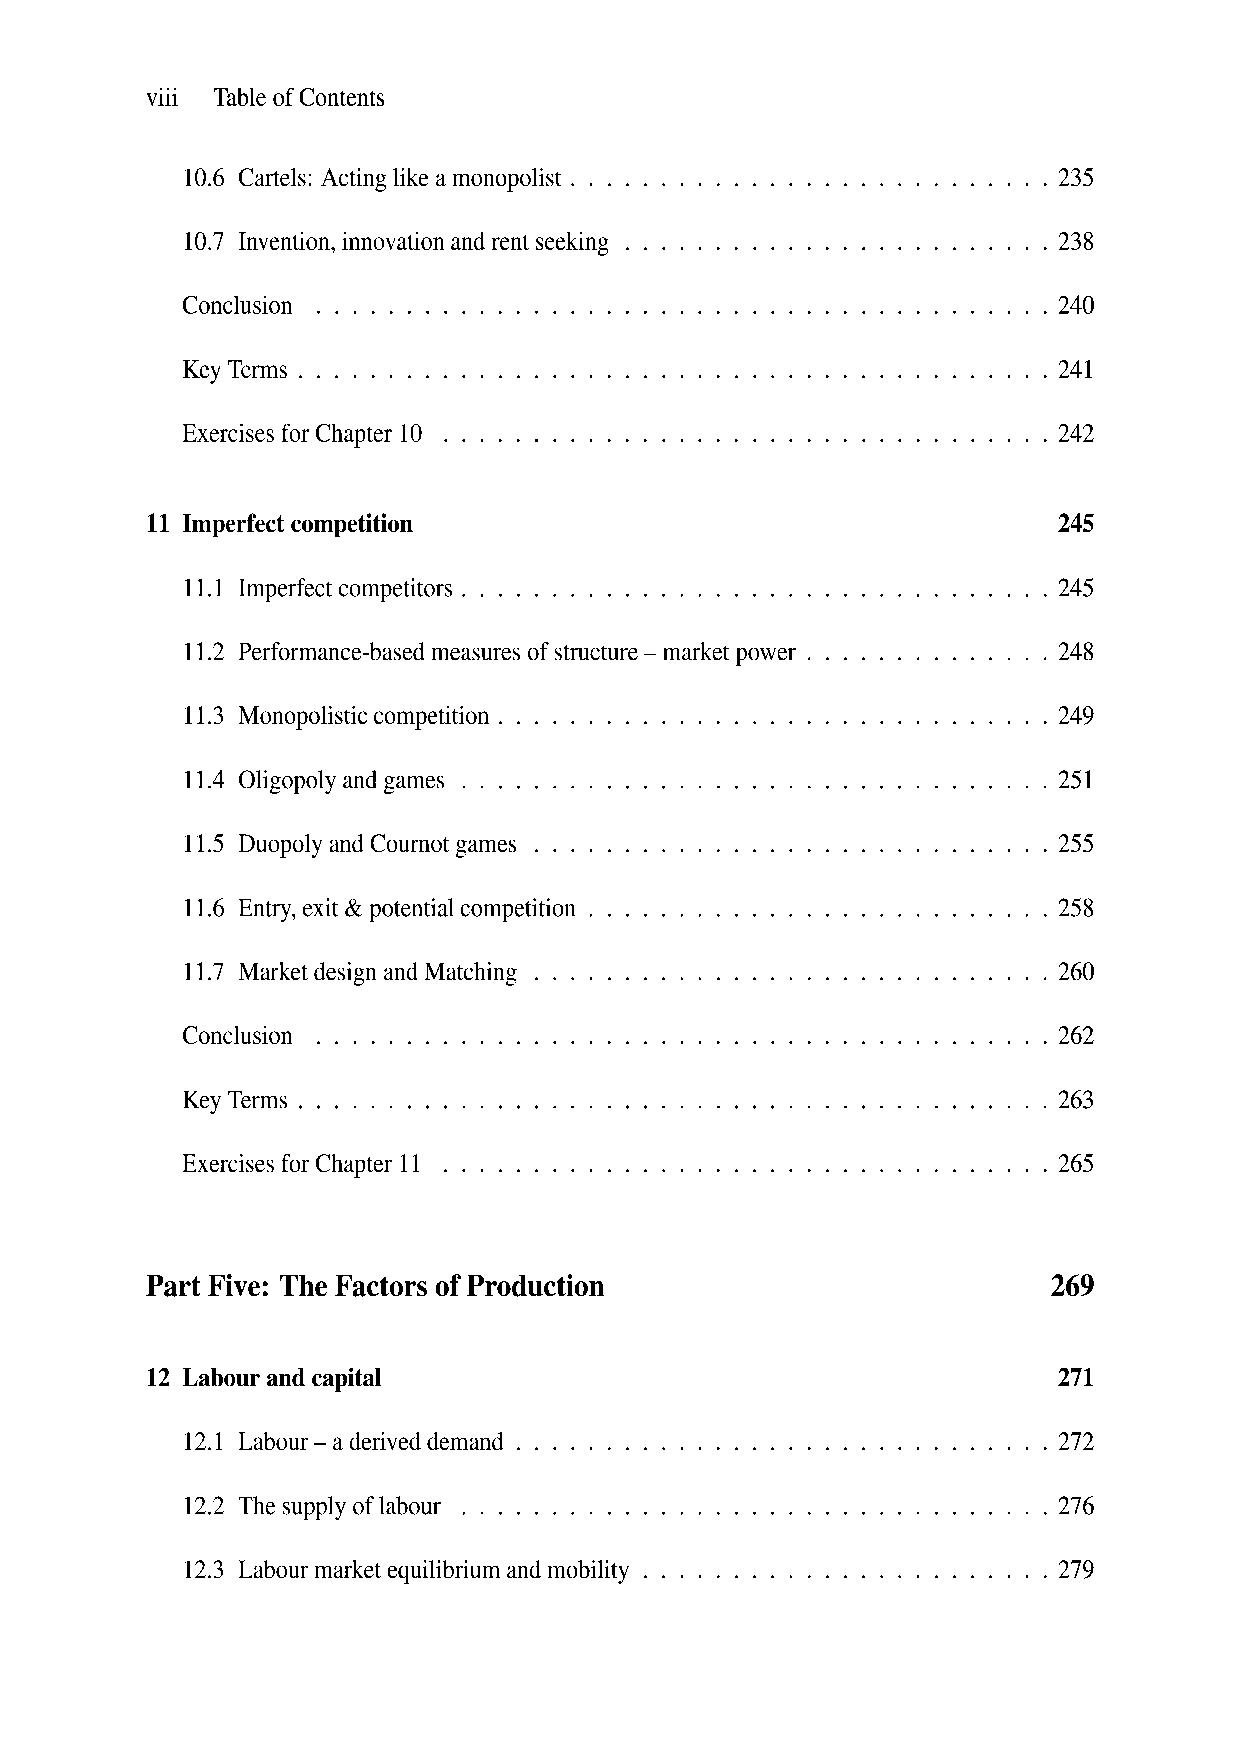TOC_chapter: (176, 631, 809, 683), (140, 1261, 612, 1310), (173, 144, 568, 199), (180, 878, 578, 929), (170, 217, 619, 262), (178, 1555, 635, 1589), (176, 953, 523, 994), (178, 564, 459, 612), (140, 501, 417, 545), (178, 754, 450, 798), (169, 1482, 448, 1525), (178, 825, 523, 859), (173, 1145, 425, 1188), (176, 1424, 505, 1456), (180, 692, 491, 726), (170, 413, 436, 451), (141, 1358, 395, 1396), (180, 345, 297, 388), (176, 1015, 306, 1051), (176, 290, 301, 322), (178, 1082, 293, 1117)
TOC_pagenumber: (1047, 1255, 1099, 1308), (1053, 690, 1102, 738), (1053, 501, 1099, 541), (1052, 1486, 1104, 1520), (1056, 411, 1099, 452), (1053, 1143, 1099, 1180), (1053, 888, 1099, 925), (1052, 951, 1104, 982), (1052, 1359, 1096, 1394), (1052, 285, 1096, 319), (1053, 569, 1099, 603), (1053, 760, 1096, 794), (1056, 1550, 1099, 1584), (1052, 221, 1096, 254), (1056, 825, 1099, 858), (1059, 1015, 1096, 1051), (1056, 1082, 1096, 1115), (1056, 354, 1096, 386), (1053, 1424, 1096, 1453), (1056, 635, 1096, 664), (1059, 162, 1095, 191)
chapter: (207, 79, 392, 115)
